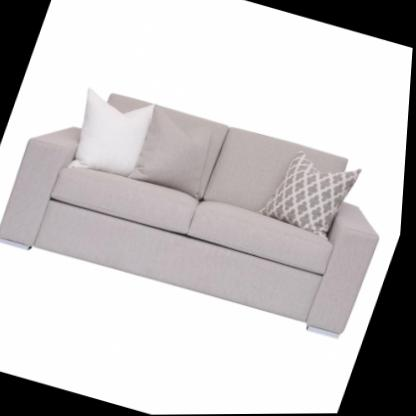Sofa: (0, 71, 411, 345)
